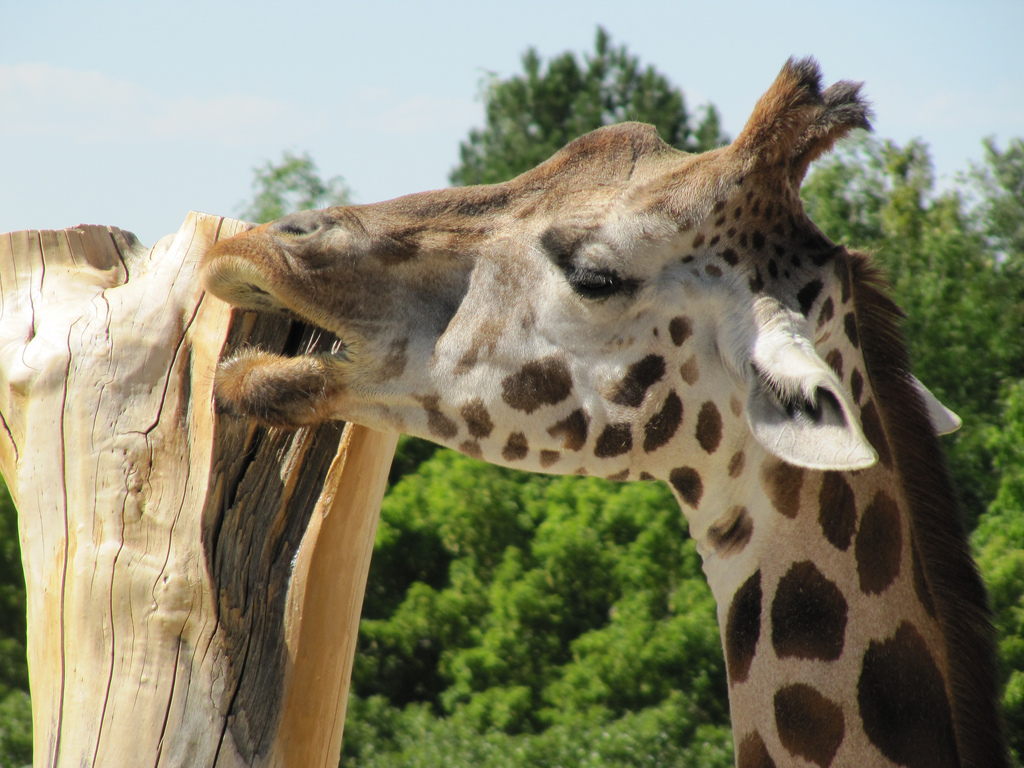giraffe: (176, 95, 973, 675)
